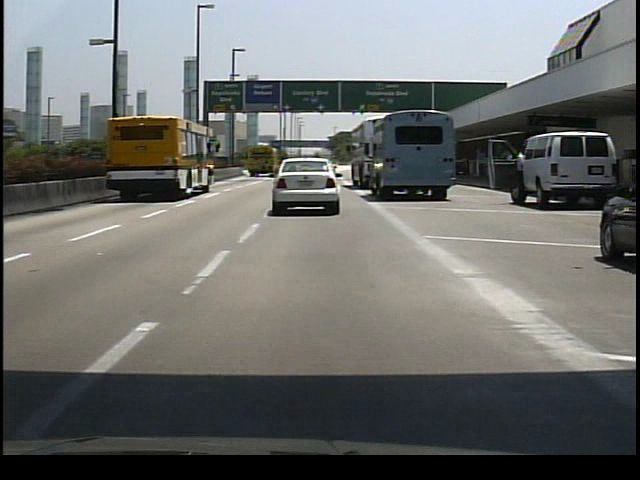person: (512, 138, 530, 212)
